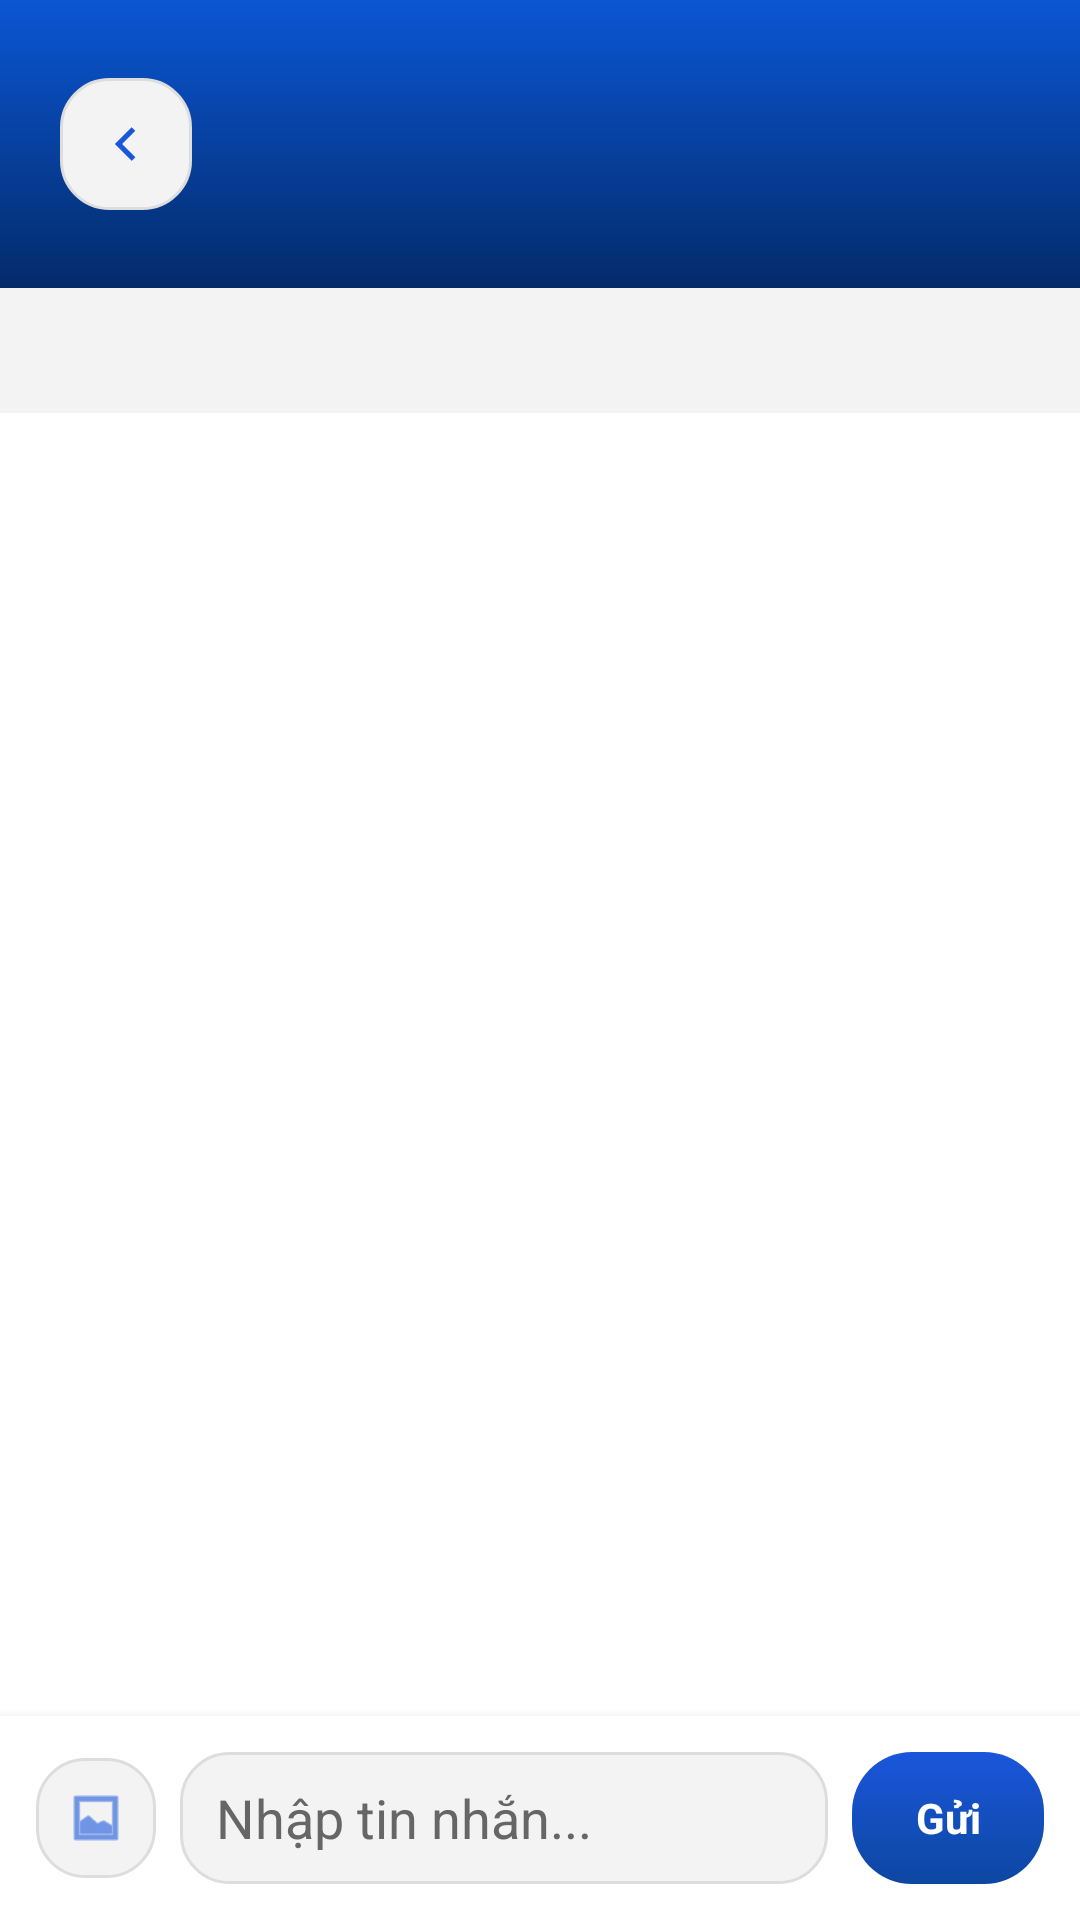

Where icons sit on this 1080×1920 app screen, as Rect(x1, y1, x2, y2):
gallery: Rect(36, 1758, 156, 1878)
